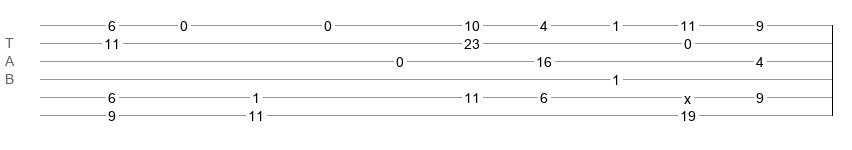0: (180, 18, 188, 28), (324, 18, 332, 28), (396, 54, 404, 64), (684, 36, 692, 46)
1: (252, 90, 260, 100), (612, 18, 620, 28), (612, 72, 620, 82)
10: (464, 18, 480, 28)
11: (104, 36, 120, 46), (248, 108, 264, 118), (464, 90, 480, 100), (680, 18, 696, 28)
16: (536, 54, 552, 64)
19: (680, 108, 696, 118)
23: (464, 36, 480, 46)
4: (540, 18, 548, 28), (756, 54, 764, 64)
6: (108, 90, 116, 100), (108, 18, 116, 28), (540, 90, 548, 100)
9: (108, 108, 116, 118), (756, 90, 764, 100), (756, 18, 764, 28)
x: (684, 91, 691, 99)
